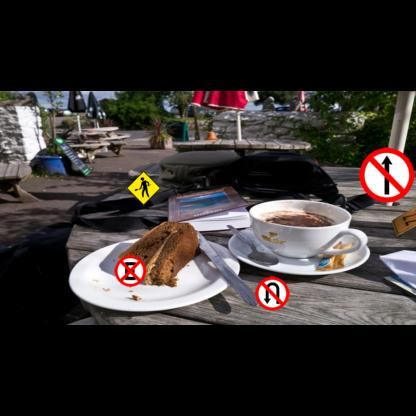A-24: (126, 171, 161, 205)
R-3: (359, 147, 414, 202)
R-5a: (255, 276, 289, 310)
R-6c: (114, 255, 146, 287)
